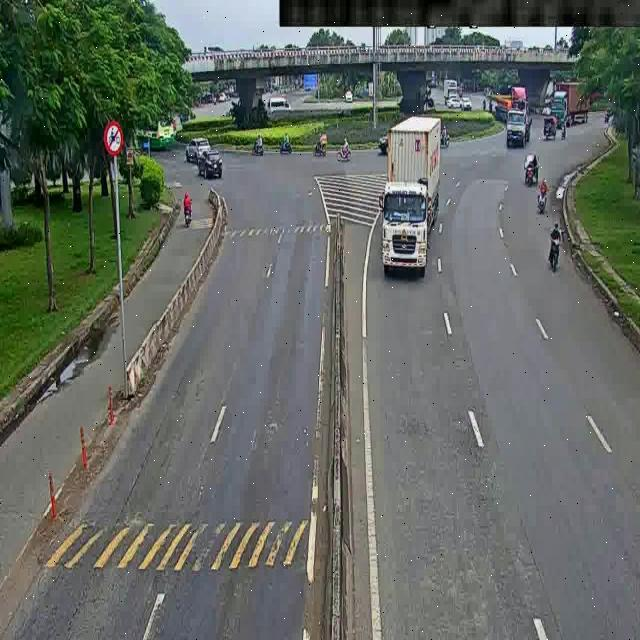car: (193, 147, 237, 191), (180, 138, 213, 166), (261, 94, 293, 117)
motorbike: (540, 223, 576, 277), (519, 143, 548, 196), (180, 188, 202, 234), (533, 177, 555, 221), (545, 113, 568, 150), (334, 135, 352, 164), (250, 133, 271, 157), (278, 131, 297, 153), (311, 130, 327, 153)
person: (111, 136, 135, 222)
truck: (368, 116, 459, 290), (545, 73, 598, 126), (503, 101, 536, 153), (483, 85, 531, 119), (435, 76, 459, 100)
